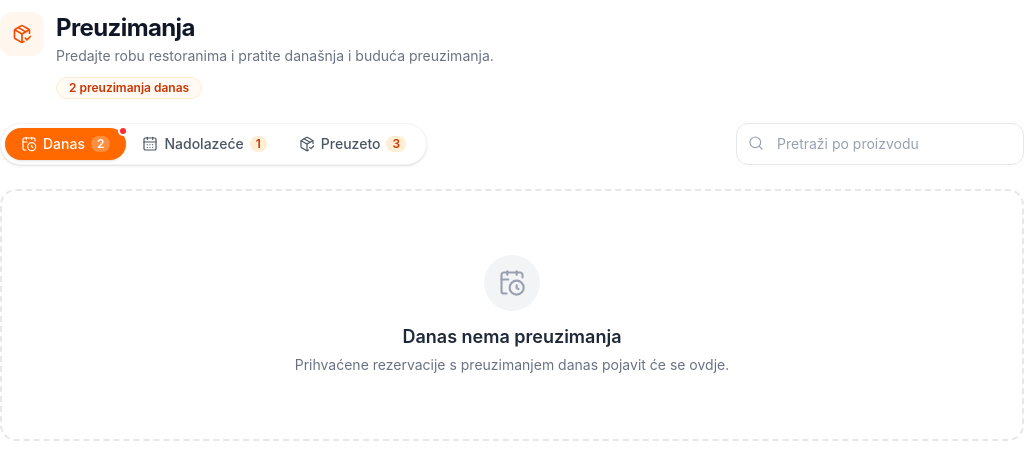
Test case: PickupsPage › shows when a completed reservation was picked up
This screenshot has width=1036, height=458.
Click the tab "Preuzeto 3" at (352, 144), box [283,128,422,160]
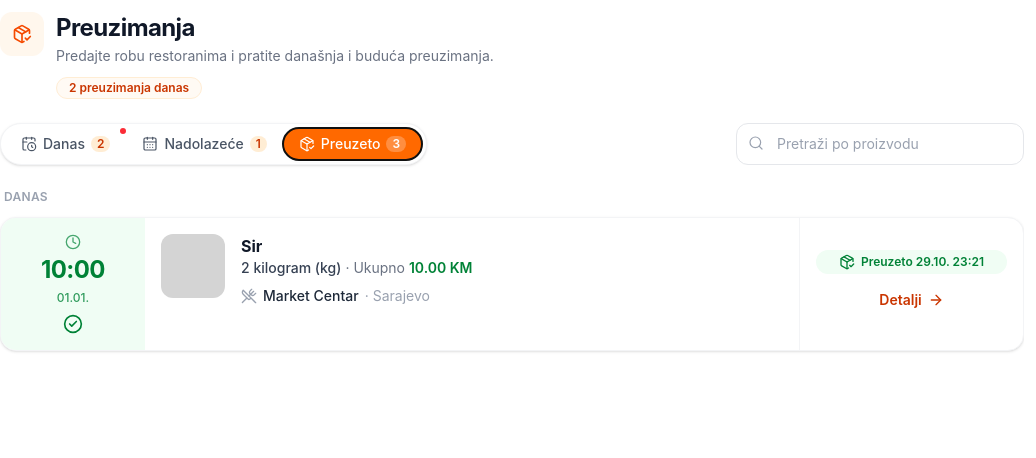
Expected: the heading "Danas" is shown, [4,189,48,204]
Result: the heading "Sir" is shown at [241,236,262,256]
